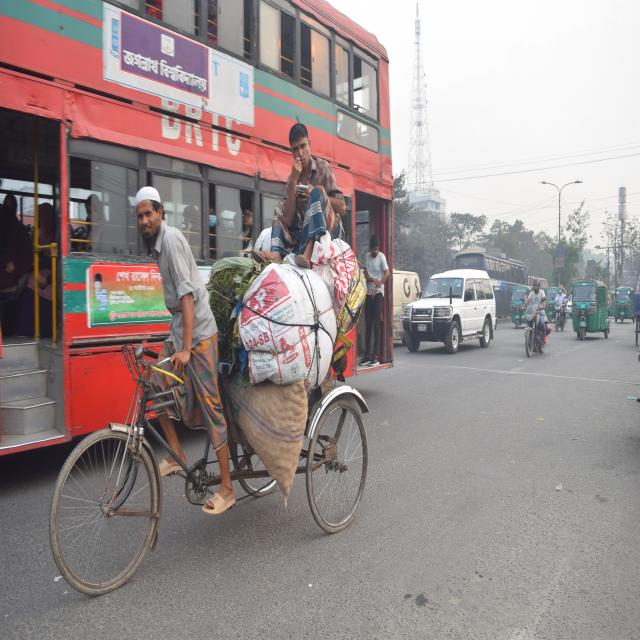bus: (0, 61, 391, 381), (455, 254, 536, 317)
car: (406, 256, 507, 379)
motorbike: (521, 266, 555, 360), (552, 281, 572, 334)
